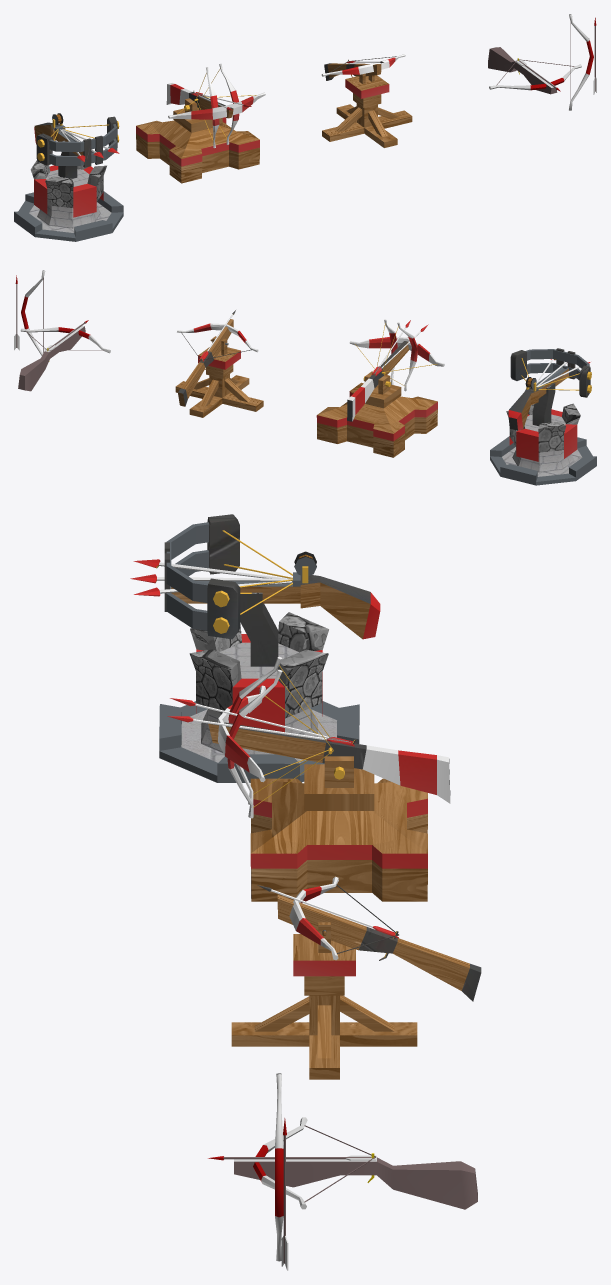
Rendered from ten - no - cung.fbx.
The picture shows the model from 3 angles, top to bottom: view 1: azimuth 30°, elevation 25°; view 2: azimuth 150°, elevation 25°; view 3: azimuth 270°, elevation 25°; orthographic projection. The views are drawn at different scales.
Visible parts, largest first — view 1: may_ban_ten_lv3, may_ban_ten_lv2, may_ban_ten_lv1, no2, cung; view 2: may_ban_ten_lv3, may_ban_ten_lv2, may_ban_ten_lv1, no2, cung; view 3: may_ban_ten_lv3, may_ban_ten_lv2, may_ban_ten_lv1, no2, cung.
Boxes of the visible parts, box(x1,y1,x2,y2) form: may_ban_ten_lv3: box(14, 113, 123, 241); may_ban_ten_lv2: box(136, 63, 265, 183); may_ban_ten_lv1: box(321, 54, 412, 147); no2: box(488, 47, 581, 94); cung: box(568, 14, 593, 110); may_ban_ten_lv3: box(490, 348, 596, 485); may_ban_ten_lv2: box(316, 319, 444, 457); may_ban_ten_lv1: box(175, 310, 263, 417); no2: box(18, 320, 110, 391); cung: box(21, 270, 45, 355); may_ban_ten_lv3: box(130, 514, 380, 782); may_ban_ten_lv2: box(167, 656, 450, 901); may_ban_ten_lv1: box(231, 876, 481, 1079); no2: box(208, 1117, 477, 1209); cung: box(275, 1073, 283, 1261).
Bounding box in the file's own units: 35.13 × 7.61 × 9.46.
5 materials, 1 textured.
